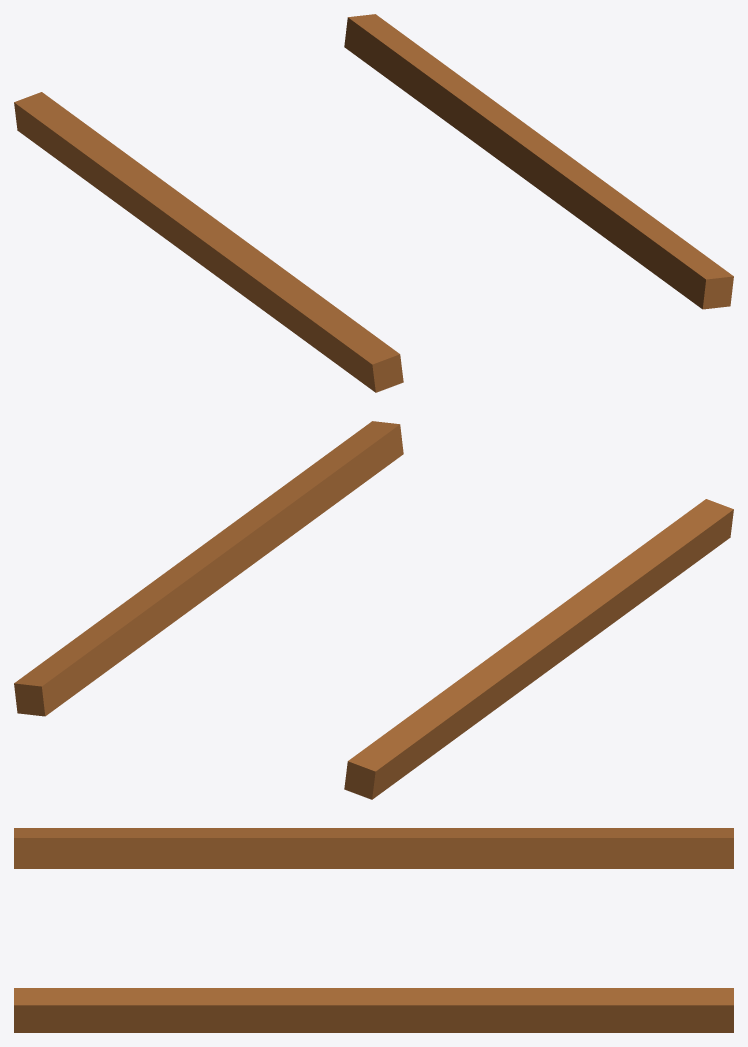
The model's file is Obocne-deske.fbx.
3 renders of one model, top to bottom at view 1: azimuth 30°, elevation 25°; view 2: azimuth 150°, elevation 25°; view 3: azimuth 270°, elevation 25°, orthographic.
Parts seen in each view (by area): view 1: Obocne-deske; view 2: Obocne-deske; view 3: Obocne-deske.
Boxes of the visible parts, box(x1,y1,x2,y2) form: Obocne-deske: box(14, 14, 733, 392); Obocne-deske: box(14, 421, 733, 799); Obocne-deske: box(14, 828, 733, 1032).
Size of the model in its own units: 156 by 13.54 by 269.
